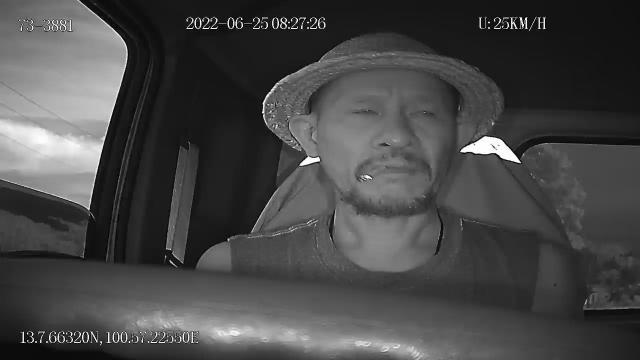SafeDriving: (404, 100, 443, 125), (346, 99, 384, 121)
Smoking: (352, 163, 378, 185)
